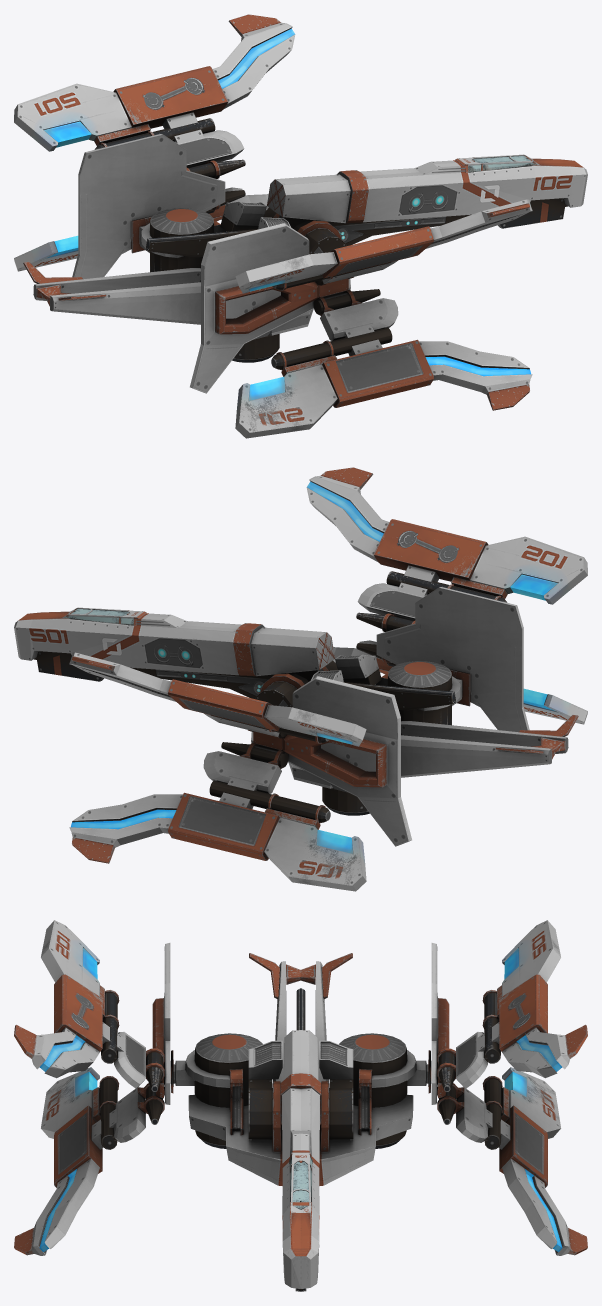
The model's file is vassieau.obj.
The picture shows the model from 3 angles, top to bottom: view 1: azimuth 30°, elevation 25°; view 2: azimuth 150°, elevation 25°; view 3: azimuth 270°, elevation 25°; orthographic projection. The views are drawn at different scales.
Parts seen in each view (by area): view 1: Vaisseau_BodyLow15, Cockpit_pPlane13; view 2: Vaisseau_BodyLow15, Cockpit_pPlane13; view 3: Vaisseau_BodyLow15, Cockpit_pPlane13.
Part boxes in pixels (x1,y1,x2,y2): Vaisseau_BodyLow15: (14, 14, 587, 438); Cockpit_pPlane13: (455, 154, 540, 172); Vaisseau_BodyLow15: (14, 467, 587, 891); Cockpit_pPlane13: (61, 607, 146, 625); Vaisseau_BodyLow15: (14, 920, 587, 1291); Cockpit_pPlane13: (289, 1152, 312, 1212).
Bounding box in the file's own units: 19.35 × 6.81 × 16.45.
2 materials, 2 textured.
